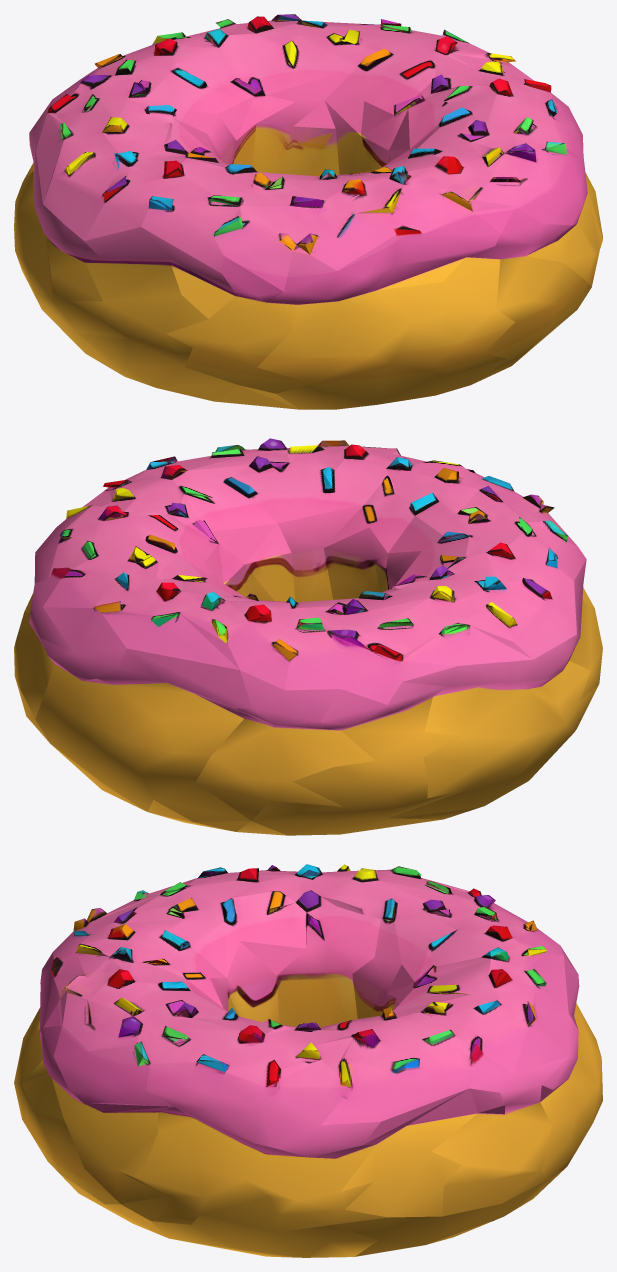
The model's file is item_donut.glb.
3 views of the same model, one above another, from view 1: azimuth 30°, elevation 25°; view 2: azimuth 150°, elevation 25°; view 3: azimuth 270°, elevation 25° (orthographic).
Size of the model in its own units: 1.9 by 0.777 by 1.89.
1 material, 1 textured.
